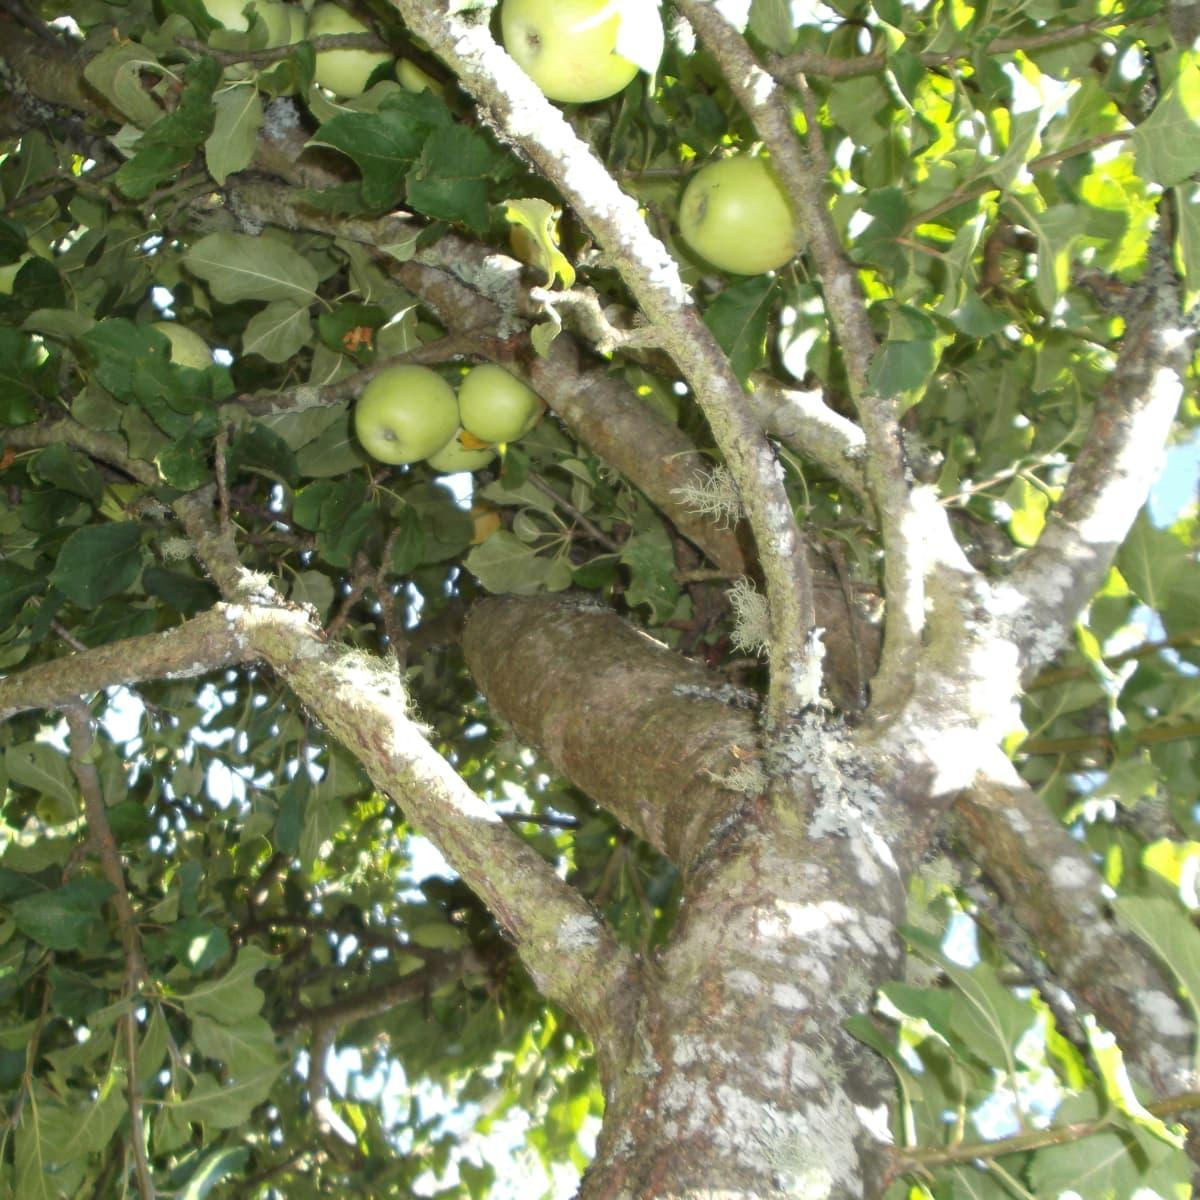apple: (673, 151, 797, 277), (493, 1, 643, 105), (349, 362, 458, 469), (454, 362, 543, 453)
